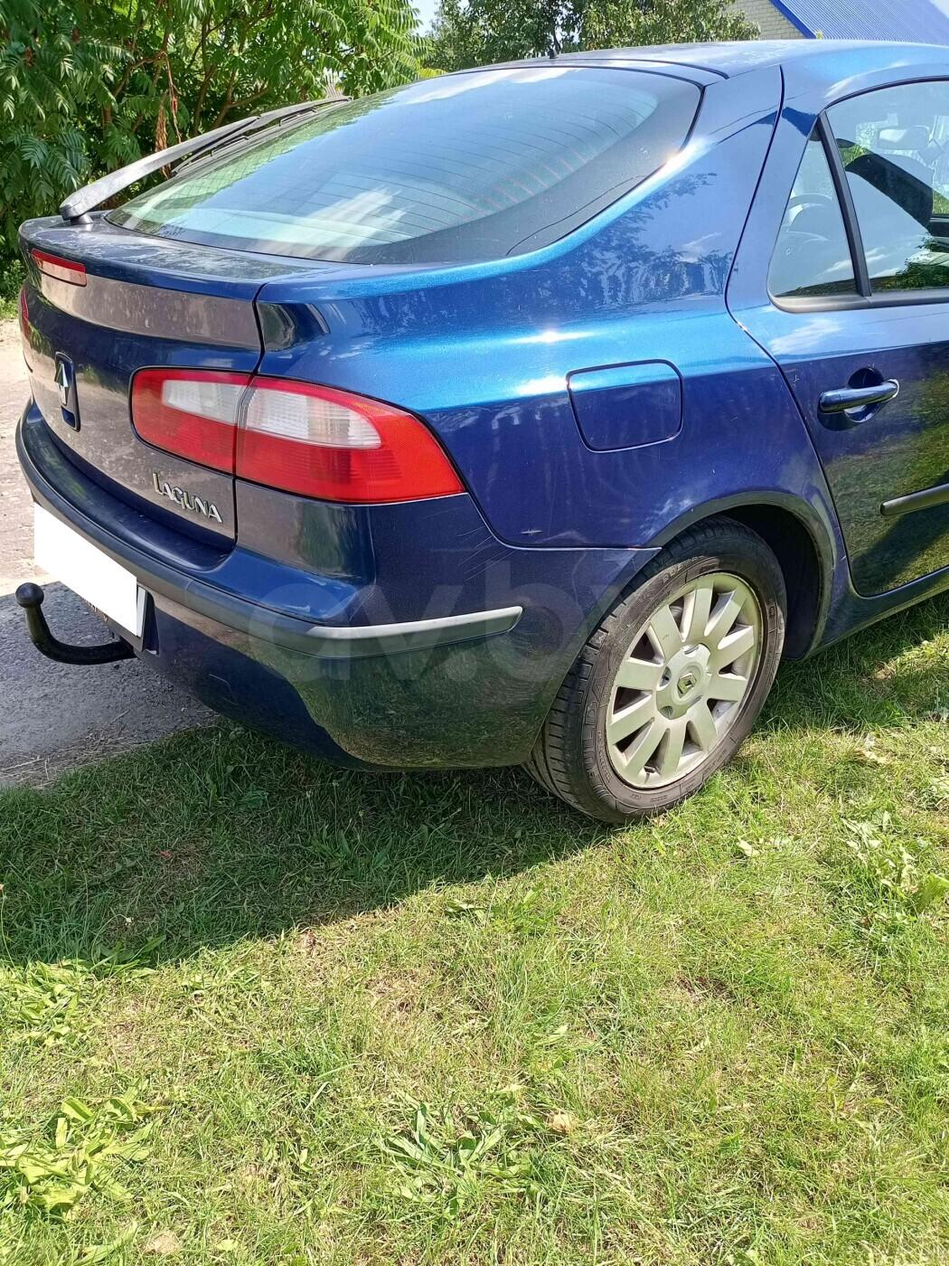Laguna_2001-2005: (16, 41, 948, 824)
